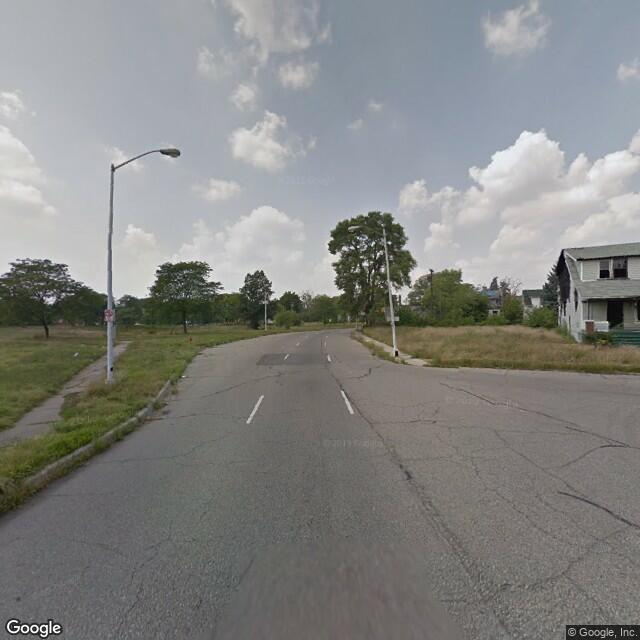litter: (178, 373, 188, 379)
